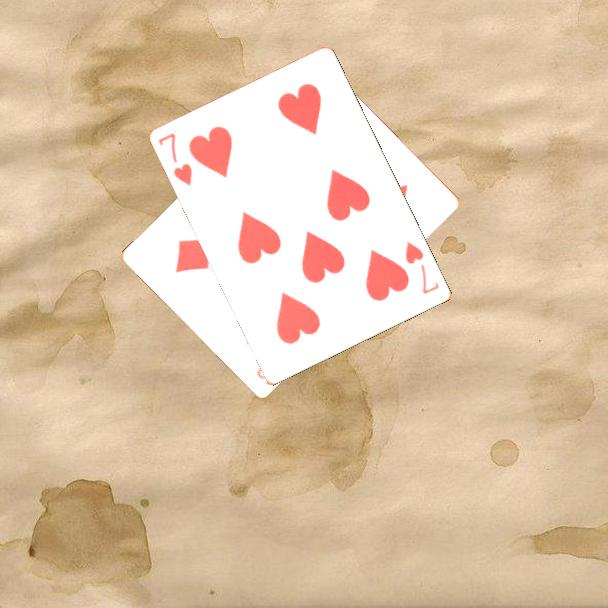h07: (155, 129, 196, 189), (402, 238, 442, 297)
